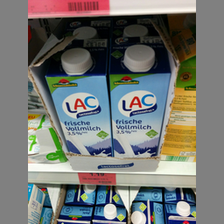milk: (46, 39, 113, 159), (109, 44, 162, 161)
